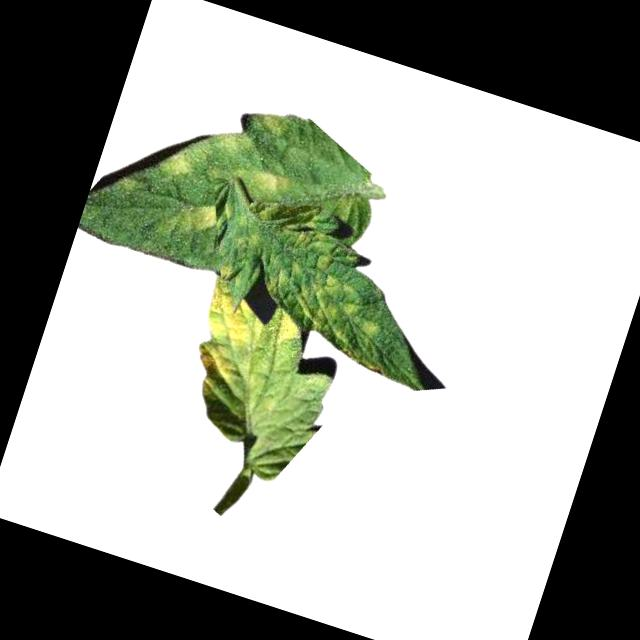Leaf_Mold: (241, 219, 413, 374), (175, 277, 309, 416), (161, 188, 225, 248), (157, 129, 211, 187), (237, 161, 292, 203), (246, 103, 294, 146), (214, 264, 235, 283)
